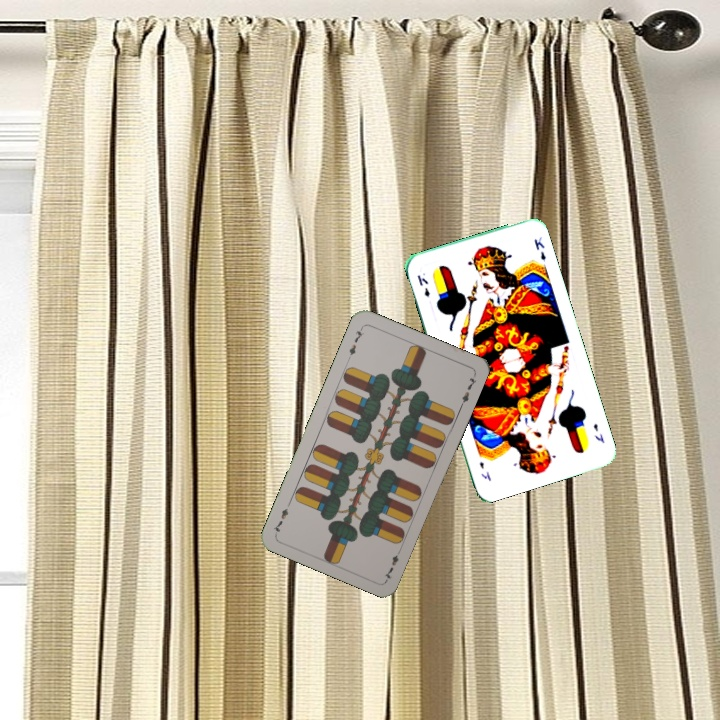E7: (380, 544, 404, 583), (344, 323, 366, 362)
EK: (413, 271, 432, 299), (589, 419, 607, 446)
